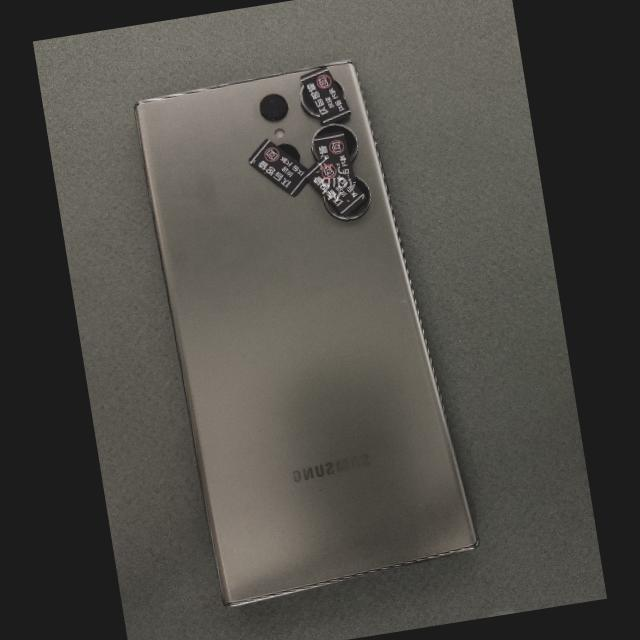lens: (325, 177, 371, 221), (315, 123, 357, 160), (257, 93, 287, 123), (299, 88, 317, 118)
phone: (135, 62, 477, 605)
sticker: (306, 153, 368, 216), (249, 140, 310, 198), (299, 67, 352, 127), (314, 131, 357, 185)
